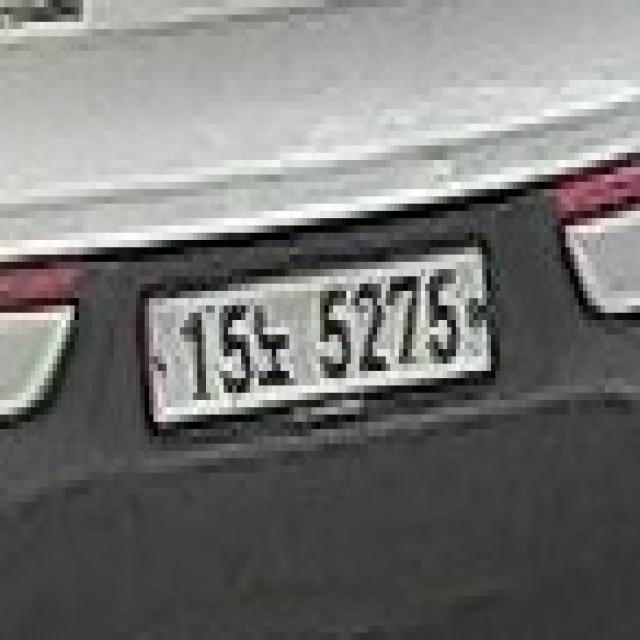1: (175, 291, 215, 414)
2: (355, 269, 390, 378)
5: (425, 262, 465, 378), (316, 269, 355, 386), (219, 284, 254, 407)
7: (386, 262, 425, 378)
license_plate: (132, 211, 504, 458)
no: (254, 284, 294, 407)
